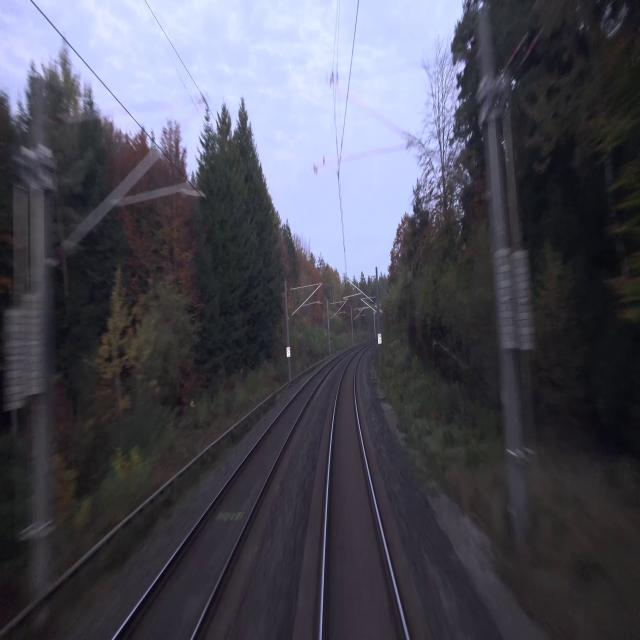rail-track: (117, 366, 329, 639), (324, 354, 404, 639)
